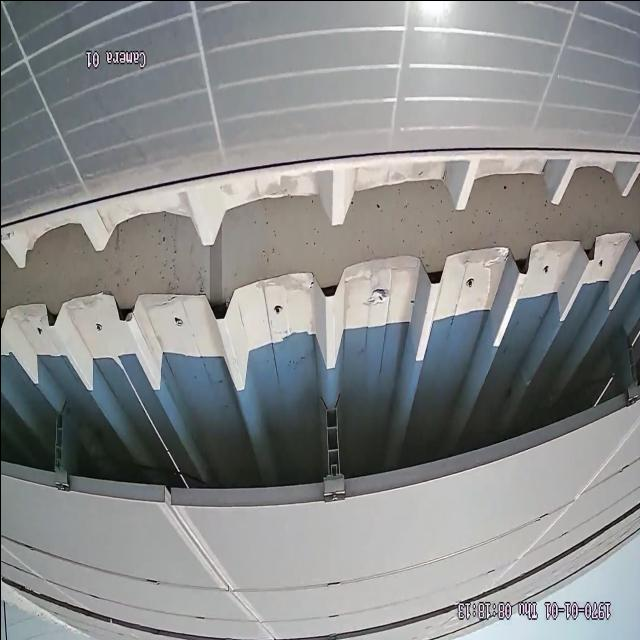interior panel: (157, 511, 266, 625)
outher panel: (4, 145, 637, 507)
